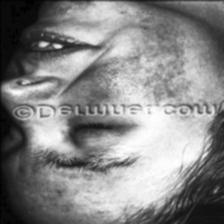Non-Cancerous Skin Condition: (86, 24, 186, 101), (22, 174, 124, 216), (40, 0, 92, 25)
